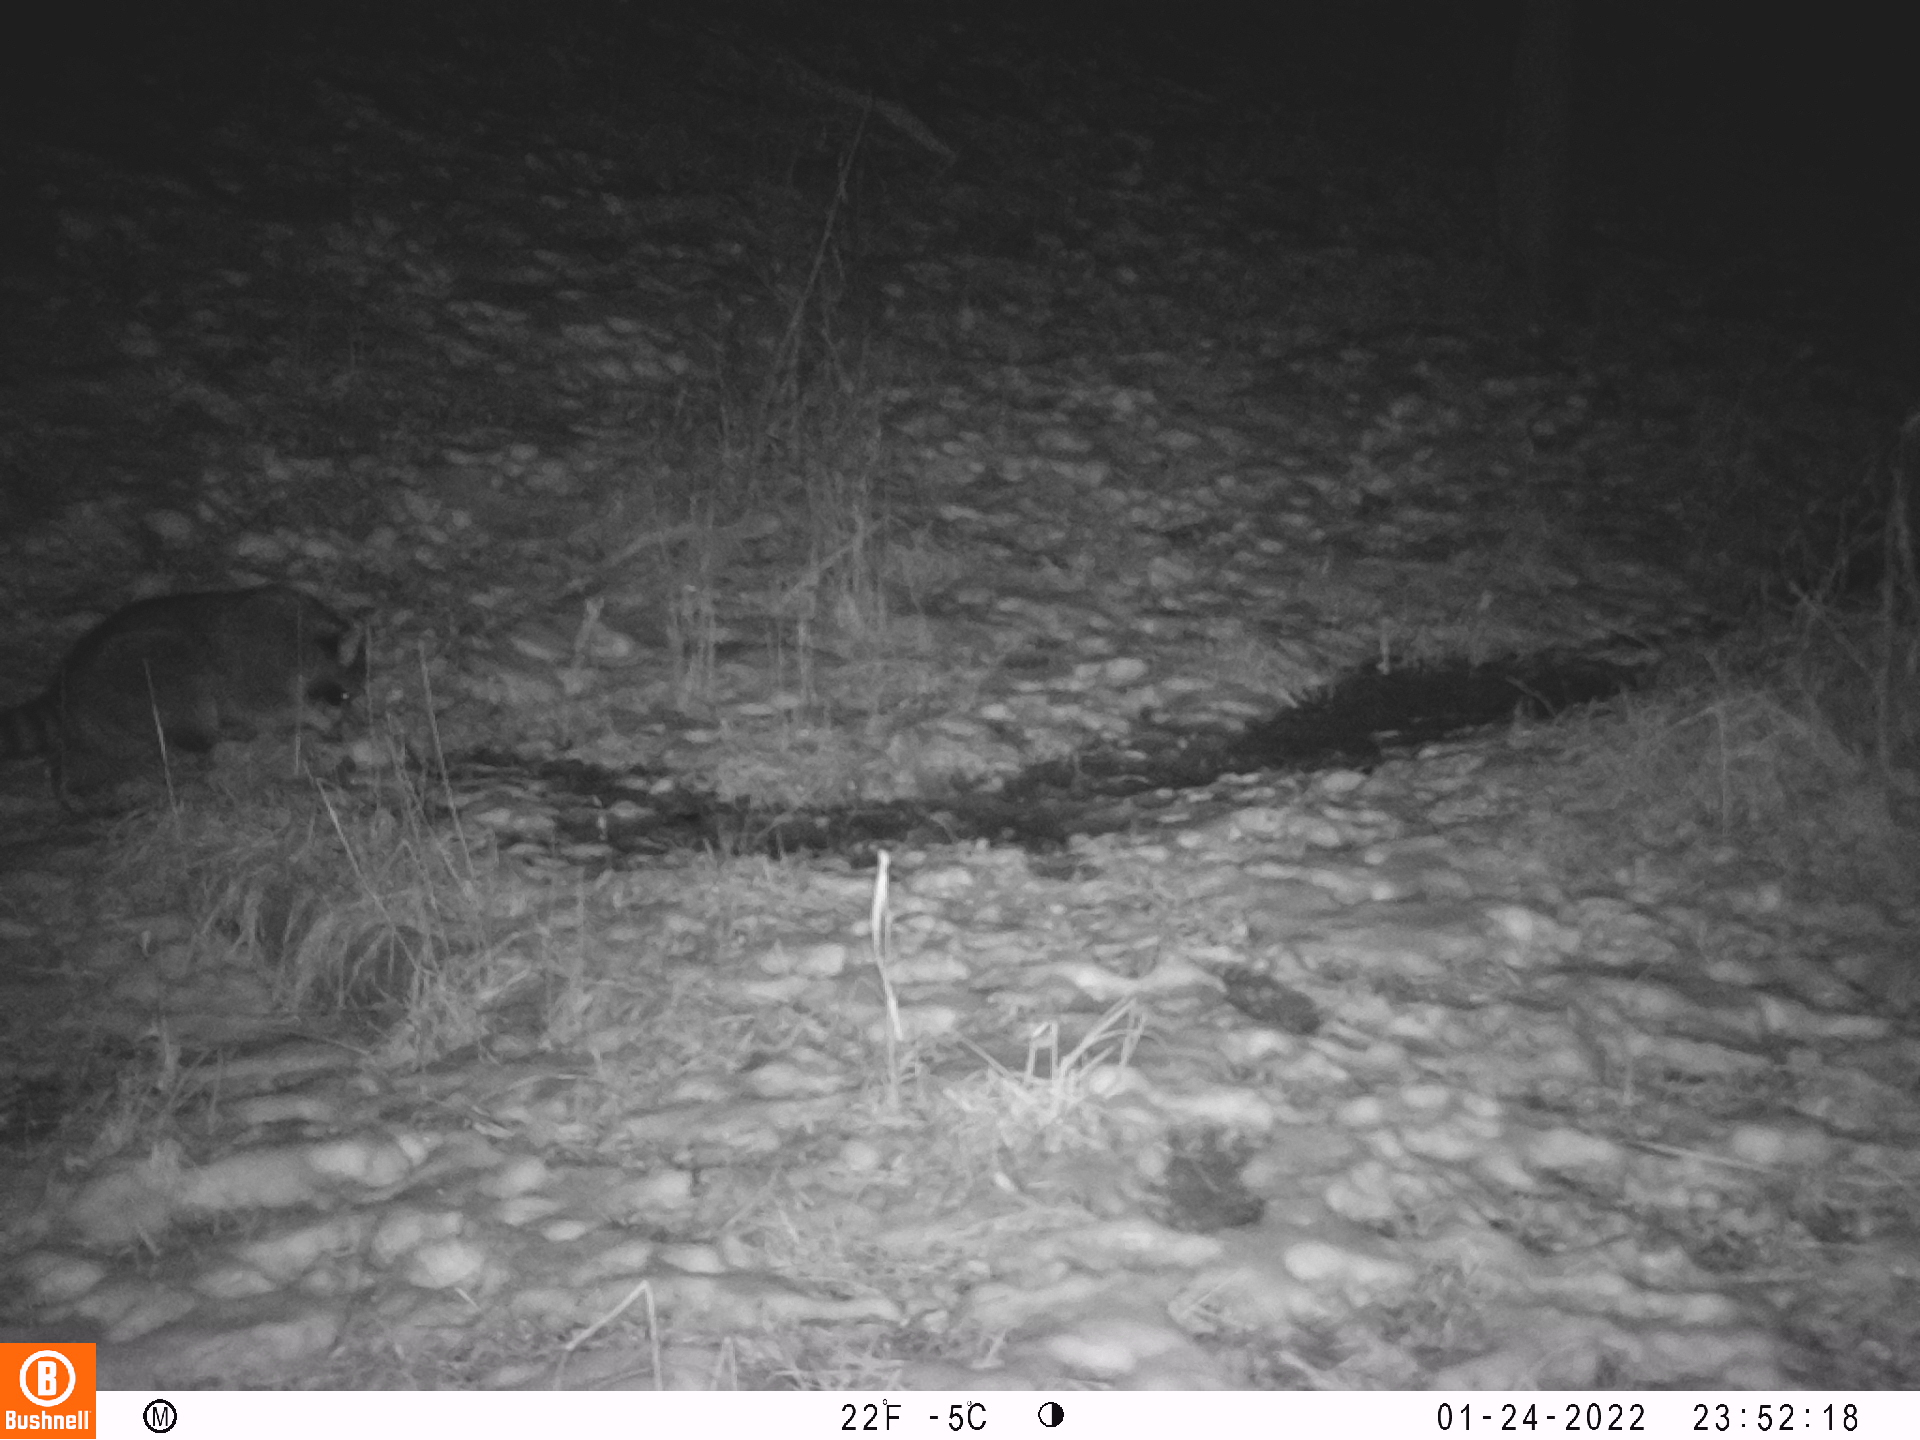Raccoon: (2, 582, 370, 753)
